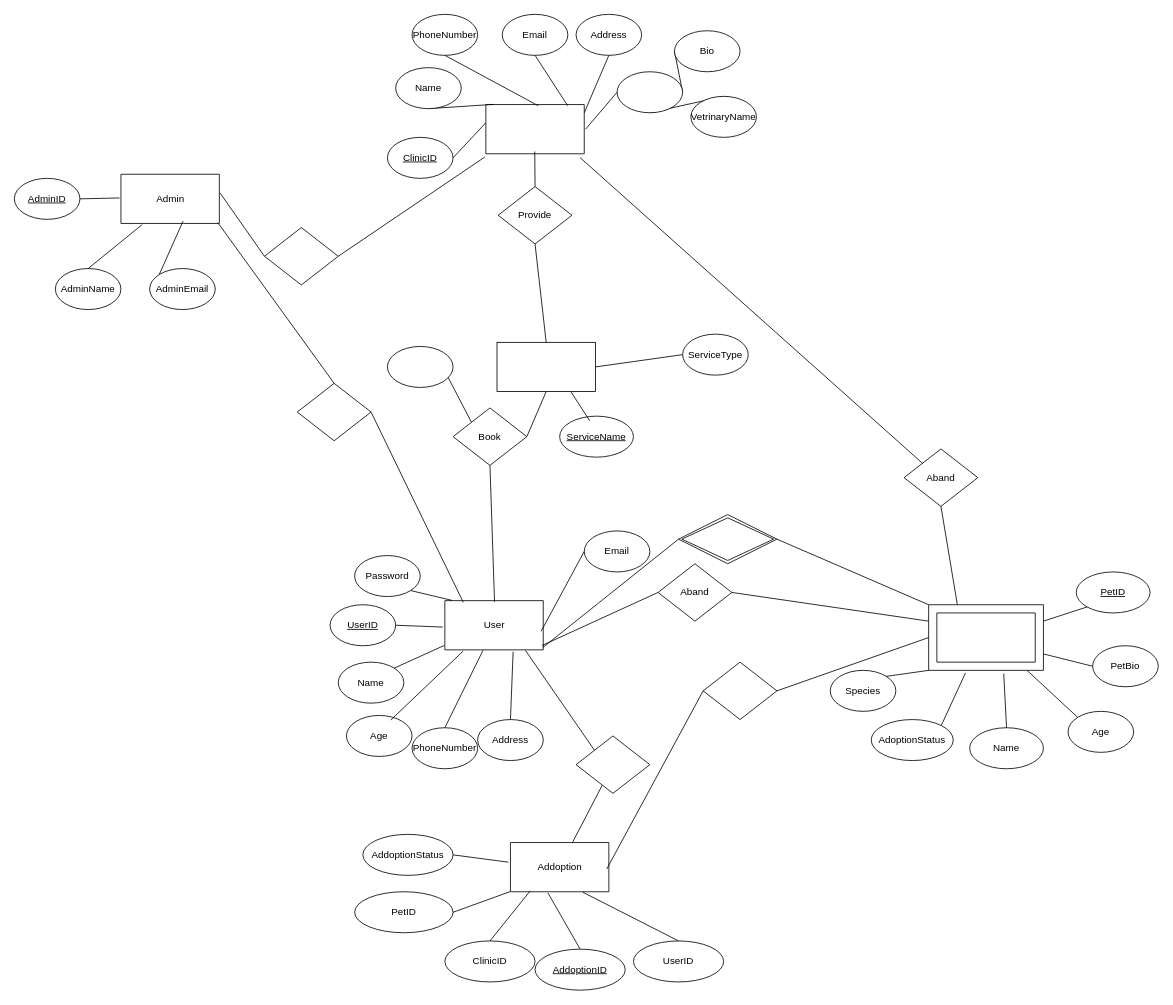
The diagram is 1173 pixels wide and 1005 high, and some of its shapes have lost their labels. The centre of each missing label's shape, as x and y in pixels:
Adopt: [612,764]
Clinics: [534,129]
contact: [333,412]
has: [727,539]
isAdopted: [739,690]
ManageBy: [301,256]
Pet: [985,637]
Schedule: [420,366]
Service: [545,367]
Veterinary: [649,92]
